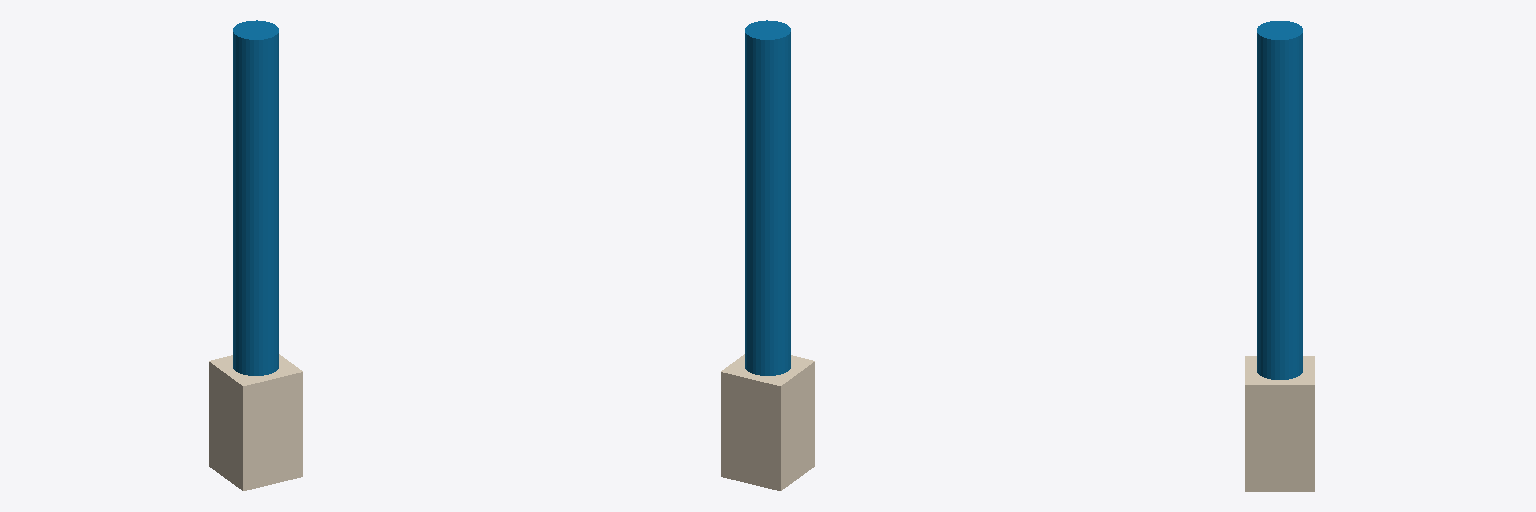
URDF robot description (architrave):
<?xml version="1.0" ?>

<robot name="architrave">

  <link name="base_link"> 

    <inertial>
      <origin rpy="0 0 0" xyz="0 0 0"/>
      <mass value="2.0"/>
      <inertia ixx="0" ixy="0.0" ixz="0.0" iyy="0" iyz="0.0" izz="0"/>
    </inertial>

    <visual>
      <origin rpy="0 0 0" xyz="0 0 0"/>
      <geometry>
        <cylinder length="1.05" radius="0.05" />
      </geometry> 
      <material name="kindablue">
        <color rgba=".1 .5 .7 1"/>
      </material> 
    </visual>

    <collision>
      <origin rpy="0 0 0" xyz="0 0 0"/>
      <geometry>
        <cylinder length="1.05" radius="0.05" />
      </geometry>
    </collision>  

  </link>

  <link name="box_link"> 
    <inertial>
      <origin rpy="0 0 0" xyz="0 0 -0.4"/>
      <mass value="0.25"/>
      <inertia ixx="0" ixy="0.0" ixz="0.0" iyy="0" iyz="0.0" izz="0"/>
    </inertial>
    <visual>
      <origin rpy="0 0 0" xyz="0 0 -0.4"/>
      <geometry>
        <box size=".15 .15 .25" />
      </geometry> 
      <material name="brown">
        <color rgba=".92 .87 .79 1"/>
      </material> 
    </visual>
    <collision>
      <origin rpy="0 0 0" xyz="0 0 -0.4"/>
      <geometry>
        <box size=".15 .15 .25" />
      </geometry>
    </collision>  
  </link>
  <joint name="box_joint" type="fixed">
    <parent link="base_link"/>
    <child link="box_link"/>
  </joint>

</robot>

--- What the picture shows (computed from the rendered views, not written in the file) ---
The picture shows the robot from 3 angles, left to right: view 1: azimuth 30°, elevation 25°; view 2: azimuth 150°, elevation 25°; view 3: azimuth 270°, elevation 25°; orthographic projection.
Model architrave with 2 links and 1 joints (1 fixed), rooted at base_link, posed all joints at 0.
Visible links, largest first — view 1: base_link, box_link; view 2: base_link, box_link; view 3: base_link, box_link.
Link boxes in pixels (x1,y1,x2,y2): base_link: [233, 20, 278, 375]; box_link: [209, 354, 302, 490]; base_link: [745, 20, 790, 375]; box_link: [721, 354, 814, 490]; base_link: [1257, 21, 1302, 379]; box_link: [1245, 356, 1314, 491].
Bounding box of the posed robot: 0.15 × 0.15 × 1.05 m (x, y, z).
Geometry: primitives only (box / cylinder / sphere), no mesh files.
